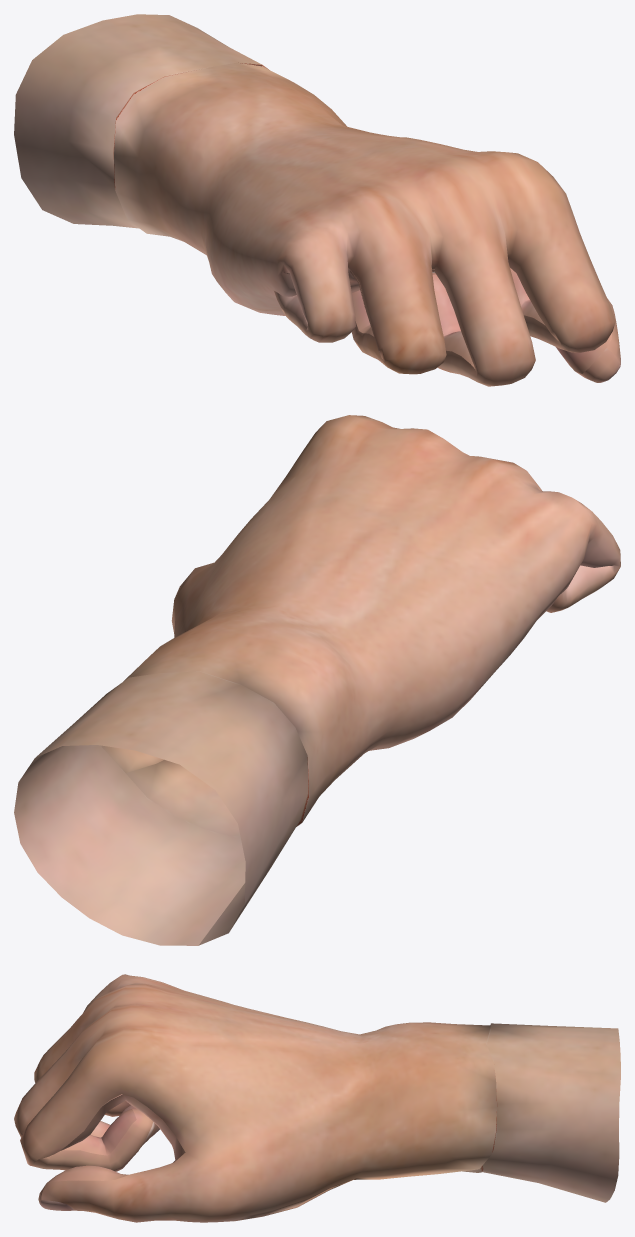
File: RHandFist.fbx
3 renders of one model, top to bottom at view 1: azimuth 30°, elevation 25°; view 2: azimuth 150°, elevation 25°; view 3: azimuth 270°, elevation 25°, orthographic. The views are drawn at different scales.
Parts seen in each view (by area): view 1: Hand; view 2: Hand; view 3: Hand.
Part boxes in pixels (x1=…): Hand: x1=14, y1=14, x2=620, y2=386; Hand: x1=14, y1=415, x2=620, y2=945; Hand: x1=14, y1=974, x2=620, y2=1222.
Size of the model in its own units: 10.23 by 7.27 by 19.75.
